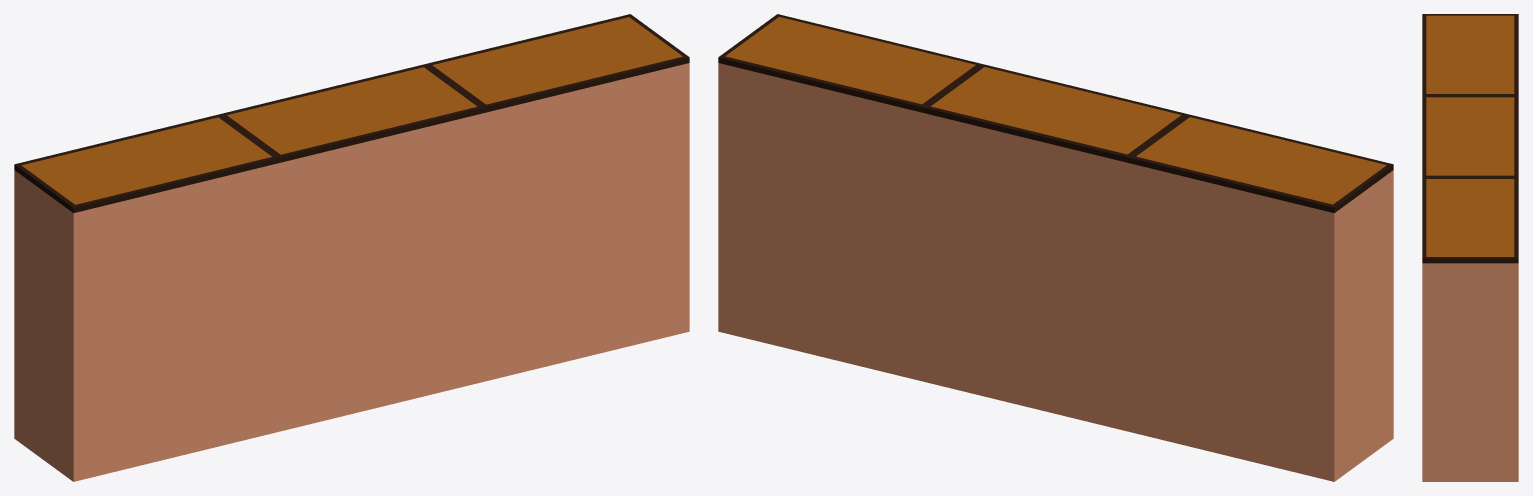
Rendered from TripleWallSegment.glb.
3 renders of one model, left to right at view 1: azimuth 30°, elevation 25°; view 2: azimuth 150°, elevation 25°; view 3: azimuth 270°, elevation 25°, orthographic. The views are drawn at different scales.
Parts seen in each view (by area): view 1: Cube.023; view 2: Cube.023; view 3: Cube.023.
Boxes of the visible parts, x1,y1,x2,y2 form: Cube.023: [14, 14, 689, 481]; Cube.023: [718, 14, 1393, 481]; Cube.023: [1422, 14, 1518, 481].
Size of the model in its own units: 12 by 5.1 by 2.
